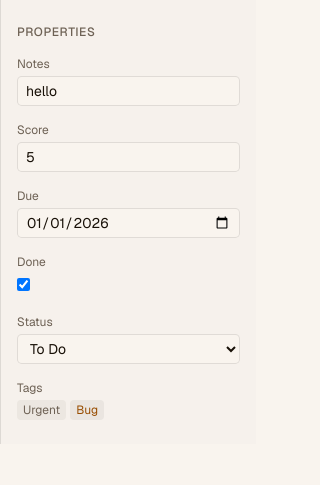
it: PropertiesPanel › shows an error and reverts the displayed value when saving fails
Replace the text in the field named "Notes" with "will fail" at (128,91), box [17,76,240,106]
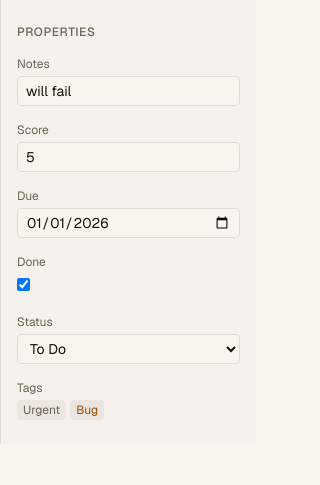
Leave the field named "Notes", box [17,76,240,106]
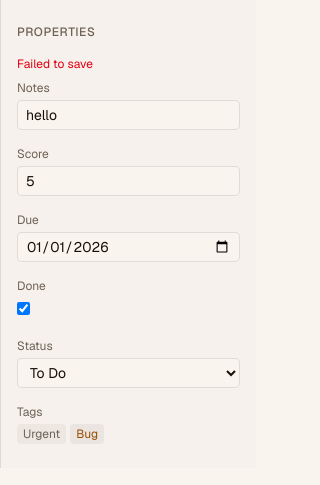
Check: the text "Failed to save" is shown, box [17,56,93,72]
Check: the field named "Notes" holds "hello", box [17,100,240,130]
